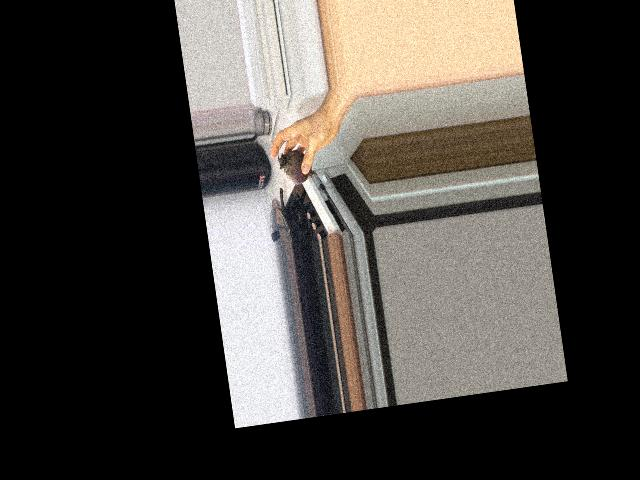beet: (276, 137, 319, 186)
